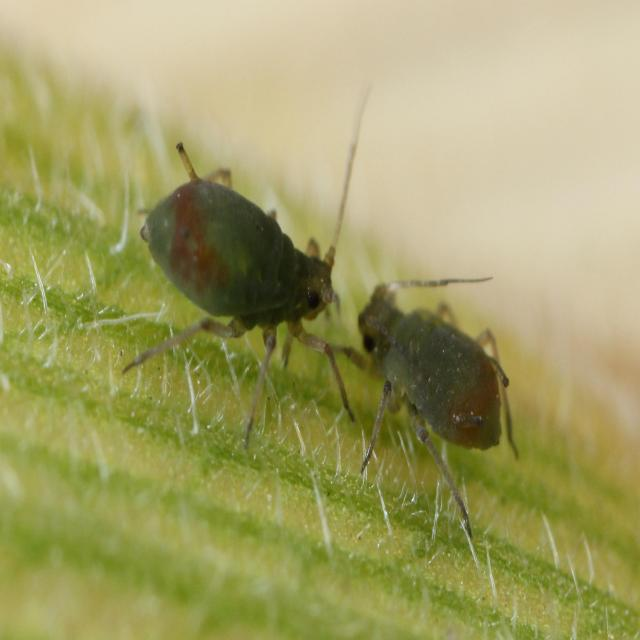Aphid-Grown-: (100, 111, 353, 421), (329, 232, 526, 519)
